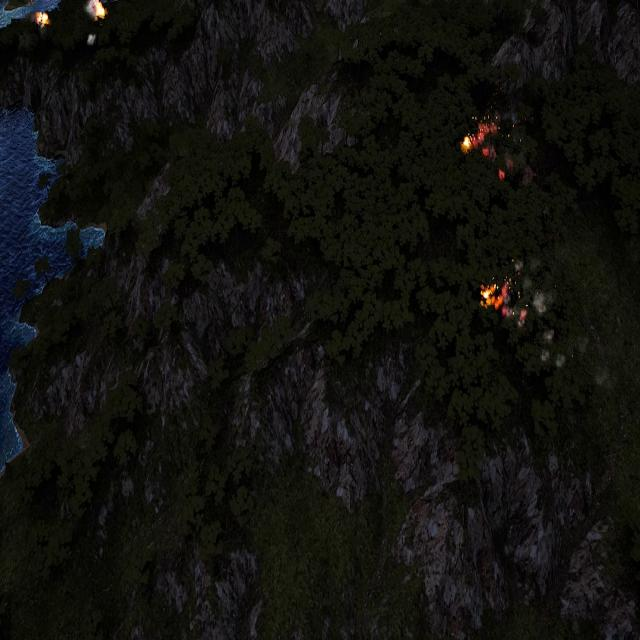fire: (480, 279, 523, 324), (459, 119, 496, 159), (94, 0, 108, 20), (36, 11, 50, 25)
smoke: (520, 253, 567, 373)
